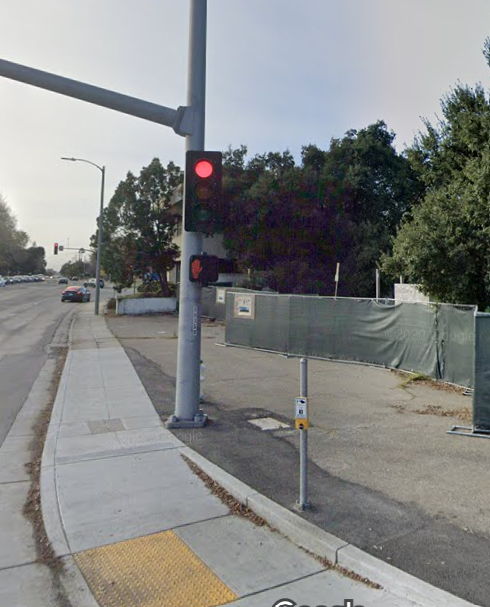red_light: (189, 156, 223, 232)
